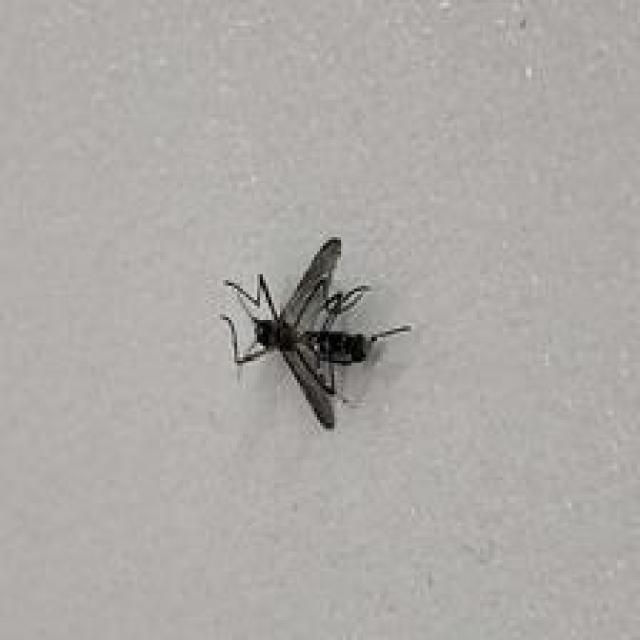Aedes albopictus: (218, 236, 413, 430)
